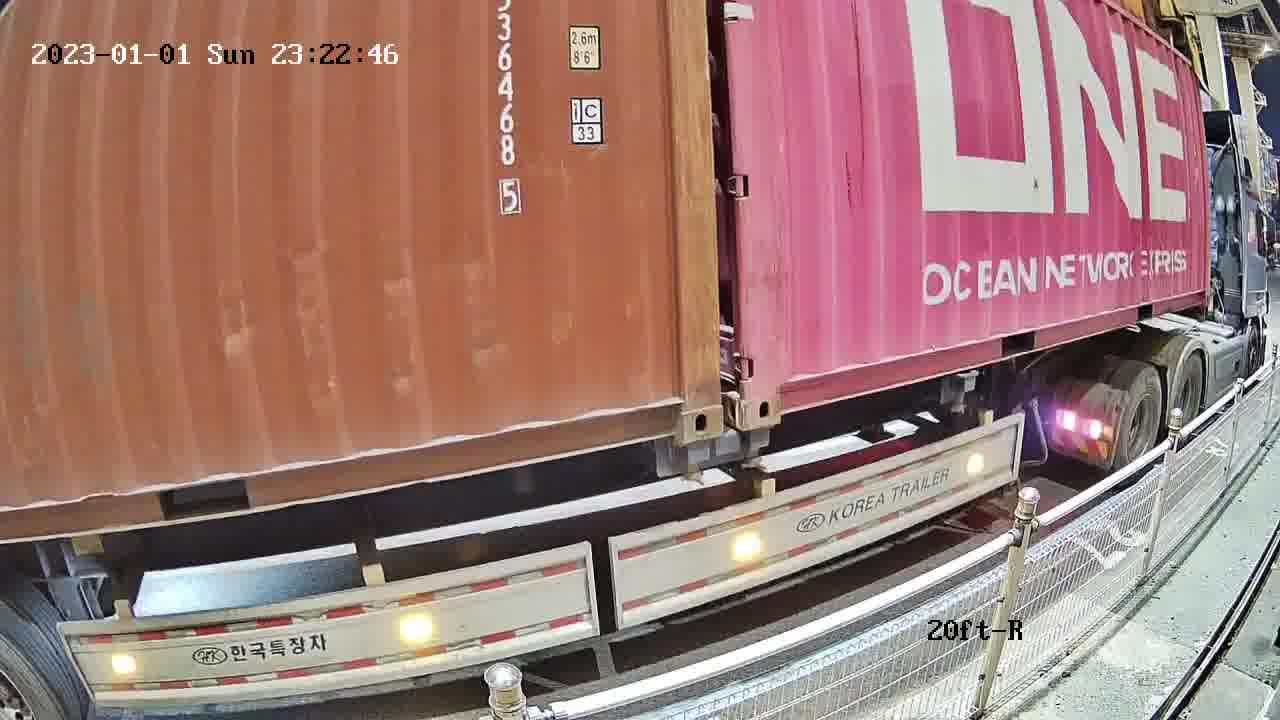Cone: (680, 440, 713, 489), (739, 426, 773, 472)
Hole_L: (745, 358, 808, 431)
Hole_R: (640, 374, 723, 445)
Tire: (1120, 372, 1163, 471), (1170, 355, 1203, 434)
